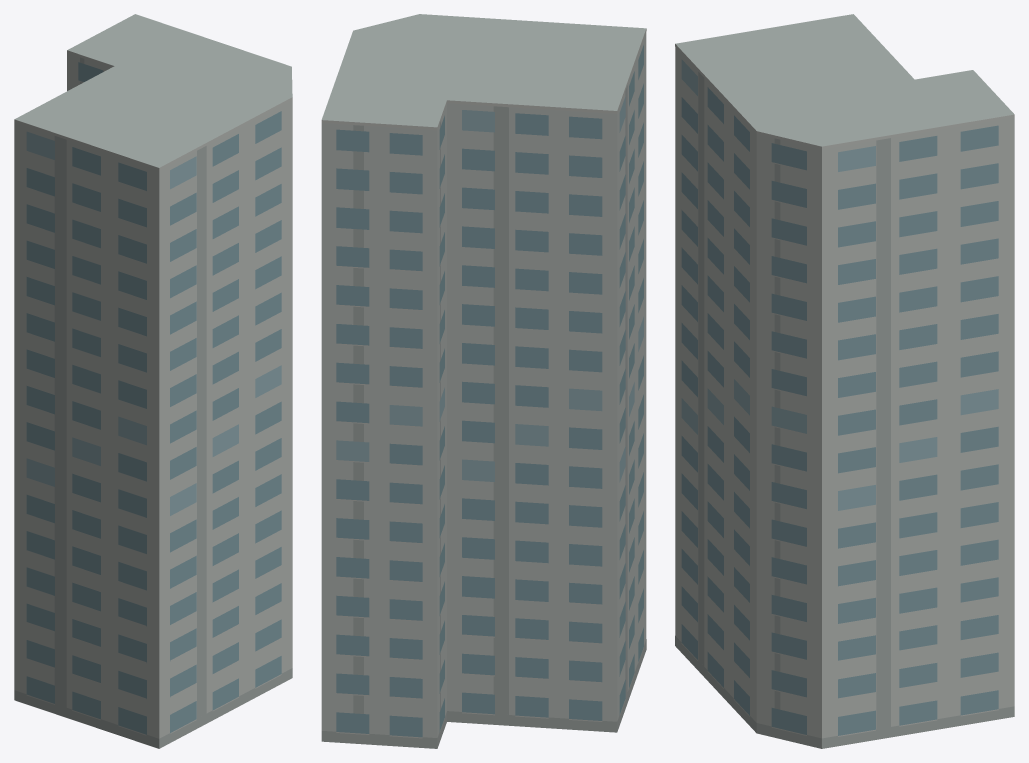
File: residential-763e8a16-31ec-4a28-9145-4f3e4c917021.glb
3 renders of one model, left to right at view 1: azimuth 30°, elevation 25°; view 2: azimuth 150°, elevation 25°; view 3: azimuth 270°, elevation 25°, orthographic. The views are drawn at different scales.
Parts seen in each view (by area): view 1: residential-763e8a16-31ec-4a28-9145-4f3e4c917021.tmp; view 2: residential-763e8a16-31ec-4a28-9145-4f3e4c917021.tmp; view 3: residential-763e8a16-31ec-4a28-9145-4f3e4c917021.tmp.
Boxes of the visible parts, x1,y1,x2,y2 form: residential-763e8a16-31ec-4a28-9145-4f3e4c917021.tmp: [14, 14, 292, 748]; residential-763e8a16-31ec-4a28-9145-4f3e4c917021.tmp: [321, 14, 646, 748]; residential-763e8a16-31ec-4a28-9145-4f3e4c917021.tmp: [675, 14, 1014, 748].
Size of the model in its own units: 23.62 by 50 by 25.56.
